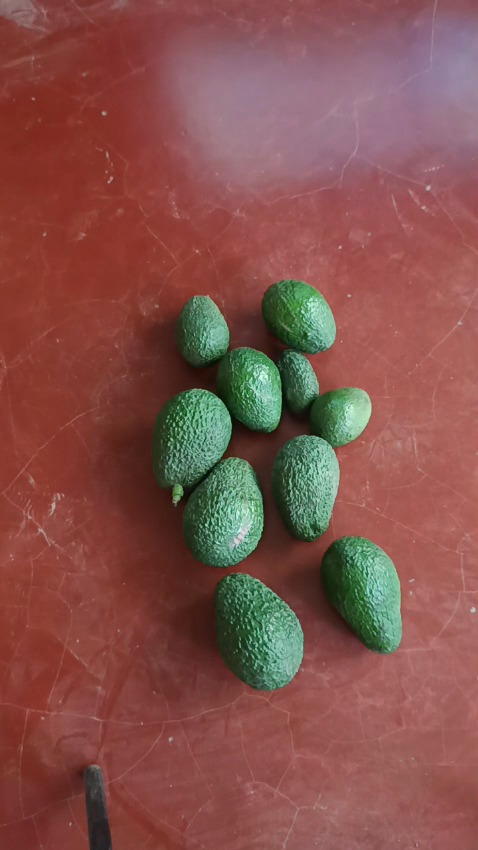Primera: (213, 573, 304, 688), (319, 535, 402, 651), (181, 457, 265, 565), (151, 388, 232, 495), (271, 435, 340, 541)
Segunda: (215, 346, 282, 433), (261, 279, 336, 353)
Tercera: (175, 295, 229, 367), (309, 386, 372, 447), (276, 349, 320, 415)
